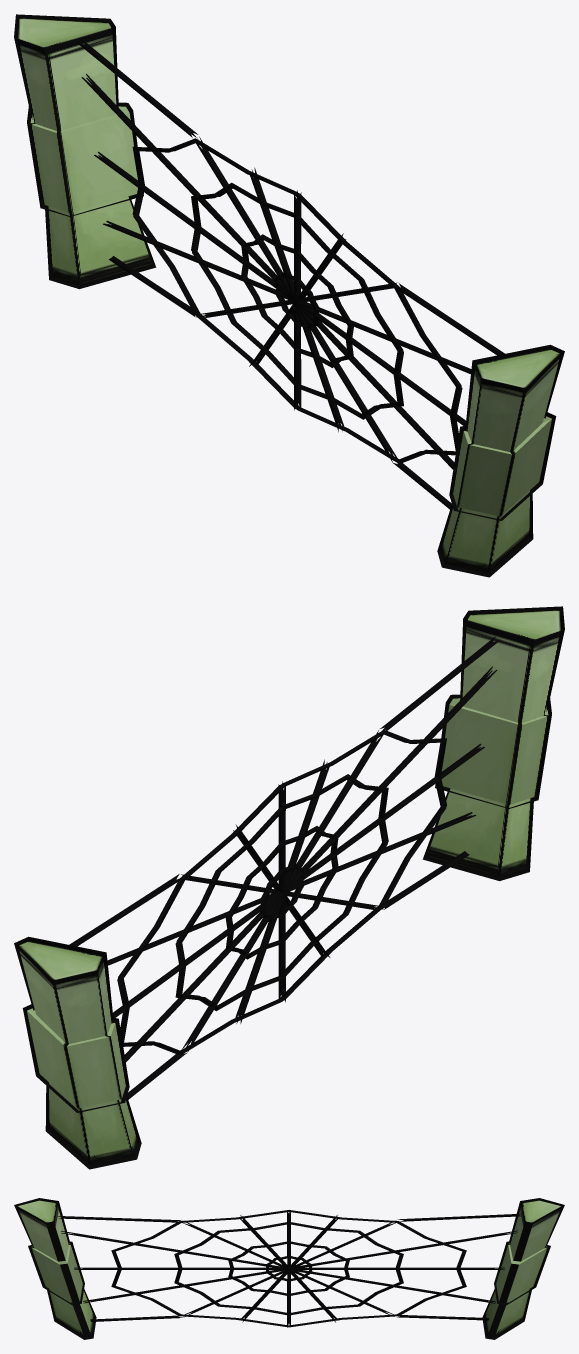
File: bouncy_wall_state4.FBX
3 renders of one model, top to bottom at view 1: azimuth 30°, elevation 25°; view 2: azimuth 150°, elevation 25°; view 3: azimuth 270°, elevation 25°, orthographic. The views are drawn at different scales.
Visible parts, largest first — view 1: Torus008, Box104; view 2: Torus008, Box104; view 3: Torus008, Box104.
Boxes of the visible parts, <box> form: Torus008: <box>17,18,560,572</box>; Box104: <box>14,14,564,577</box>; Torus008: <box>18,610,561,1164</box>; Box104: <box>14,606,564,1169</box>; Torus008: <box>16,1200,562,1337</box>; Box104: <box>14,1198,564,1339</box>.
Bounding box in the file's own units: 0.2383 × 0.517 × 2.17.
Materials: 3 (2 with a texture image).
